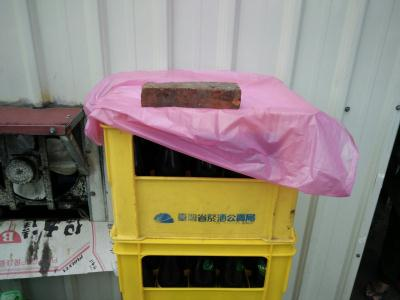plastic_bag: (83, 70, 356, 152)
